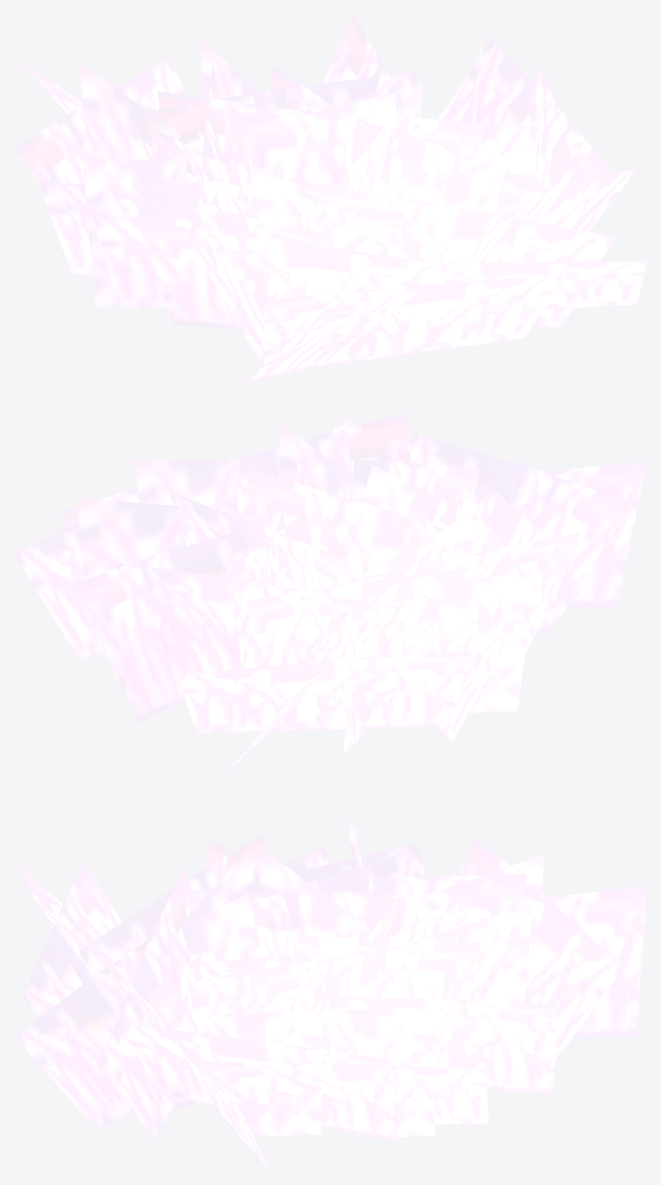
The picture shows the model from 3 angles, top to bottom: view 1: azimuth 30°, elevation 25°; view 2: azimuth 150°, elevation 25°; view 3: azimuth 270°, elevation 25°; orthographic projection. The views are drawn at different scales.
Parts seen in each view (by area): view 1: SM_GF_GrassShort_02_NoRVT_LOD0; view 2: SM_GF_GrassShort_02_NoRVT_LOD0; view 3: SM_GF_GrassShort_02_NoRVT_LOD0.
Boxes of the visible parts, box(x1,y1,x2,y2) form: SM_GF_GrassShort_02_NoRVT_LOD0: box(14, 14, 646, 383); SM_GF_GrassShort_02_NoRVT_LOD0: box(14, 412, 646, 779); SM_GF_GrassShort_02_NoRVT_LOD0: box(14, 810, 646, 1169).
Size of the model in its own units: 0.8139 by 0.309 by 0.9537.
Materials: 1 (1 with a texture image).
